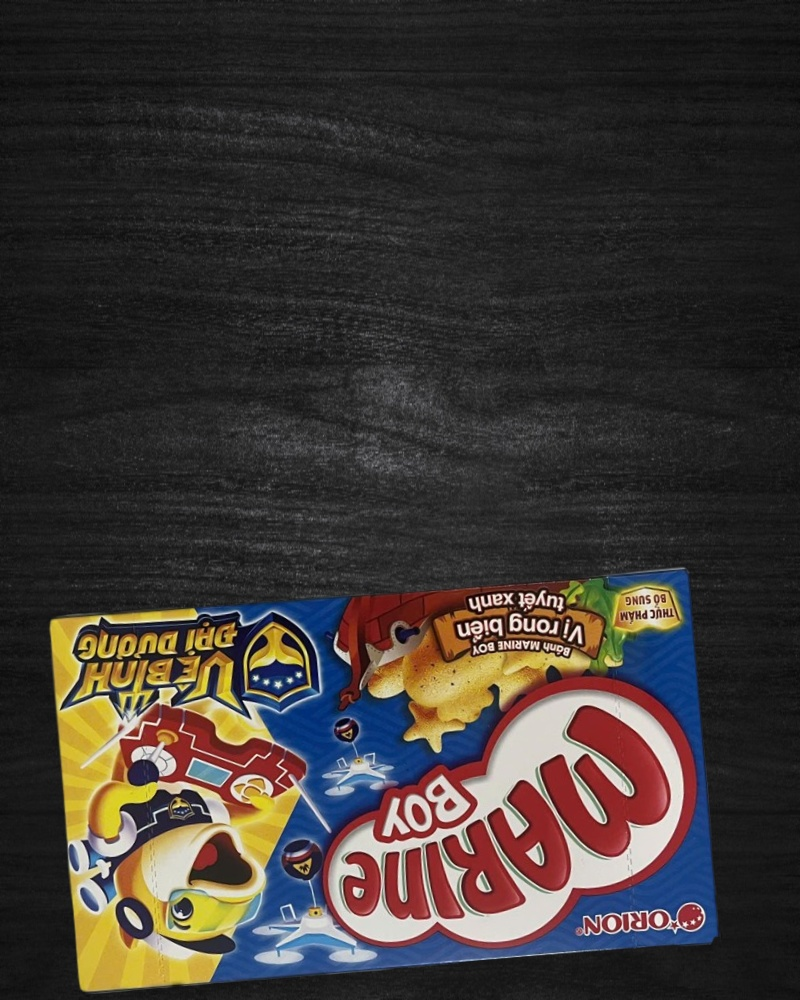Marine: (46, 562, 722, 999)
